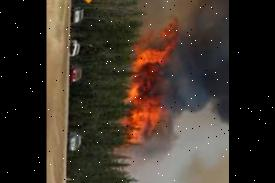fire: (115, 17, 184, 147)
